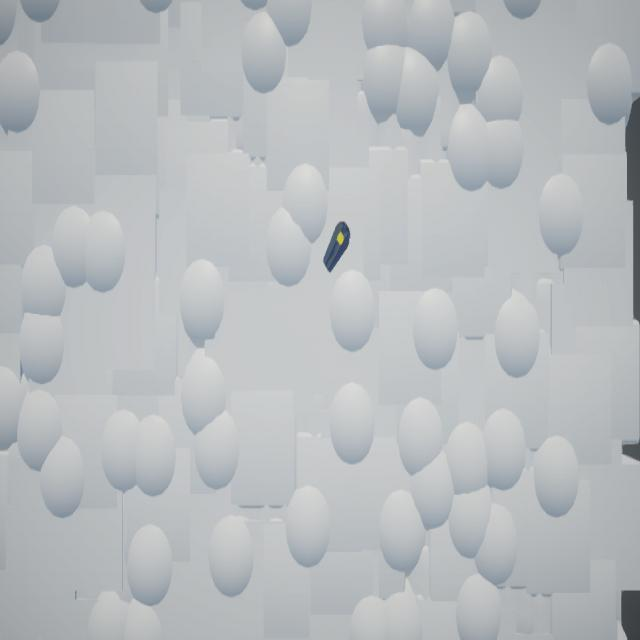handle_folk: (323, 222, 351, 275)
